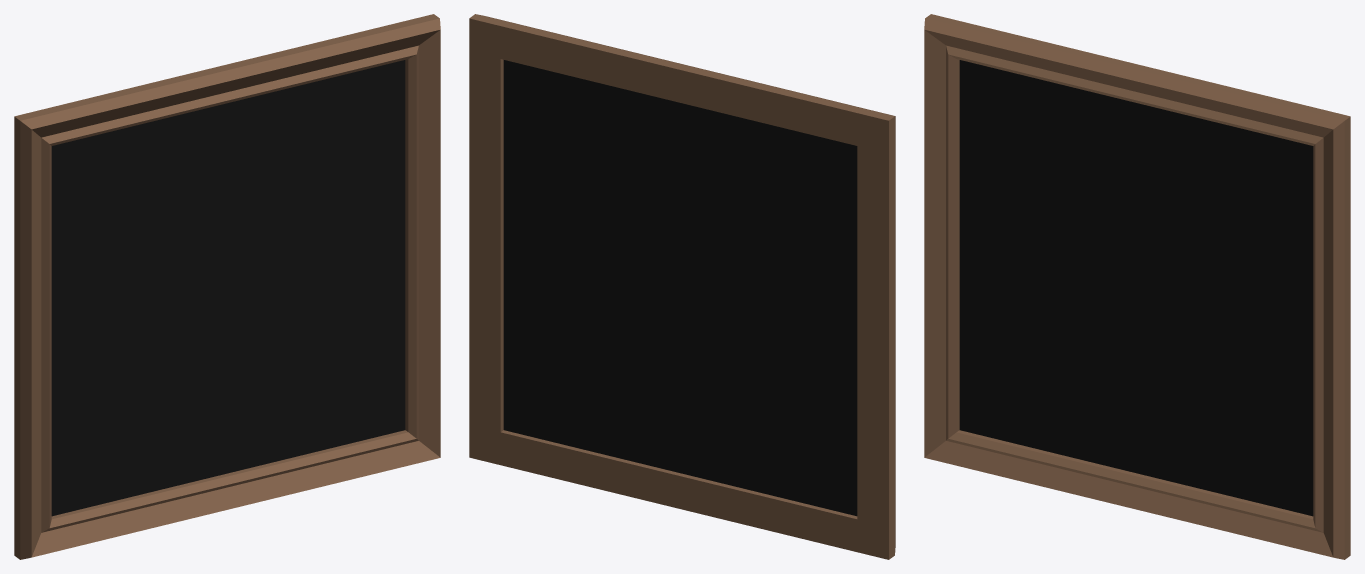
Rendered from Prop_Misc_Picture_Square_Large.obj.
3 renders of one model, left to right at view 1: azimuth 30°, elevation 25°; view 2: azimuth 150°, elevation 25°; view 3: azimuth 330°, elevation 25°, orthographic.
Parts seen in each view (by area): view 1: object1, object2; view 2: object1, object2; view 3: object1, object2.
Part boxes in pixels (<box>): object1: <box>51,60,405,516</box>; object2: <box>14,14,440,559</box>; object1: <box>503,60,857,516</box>; object2: <box>469,14,895,559</box>; object1: <box>959,60,1313,516</box>; object2: <box>924,14,1350,559</box>.
Size of the model in its own units: 1 by 1 by 0.05.
